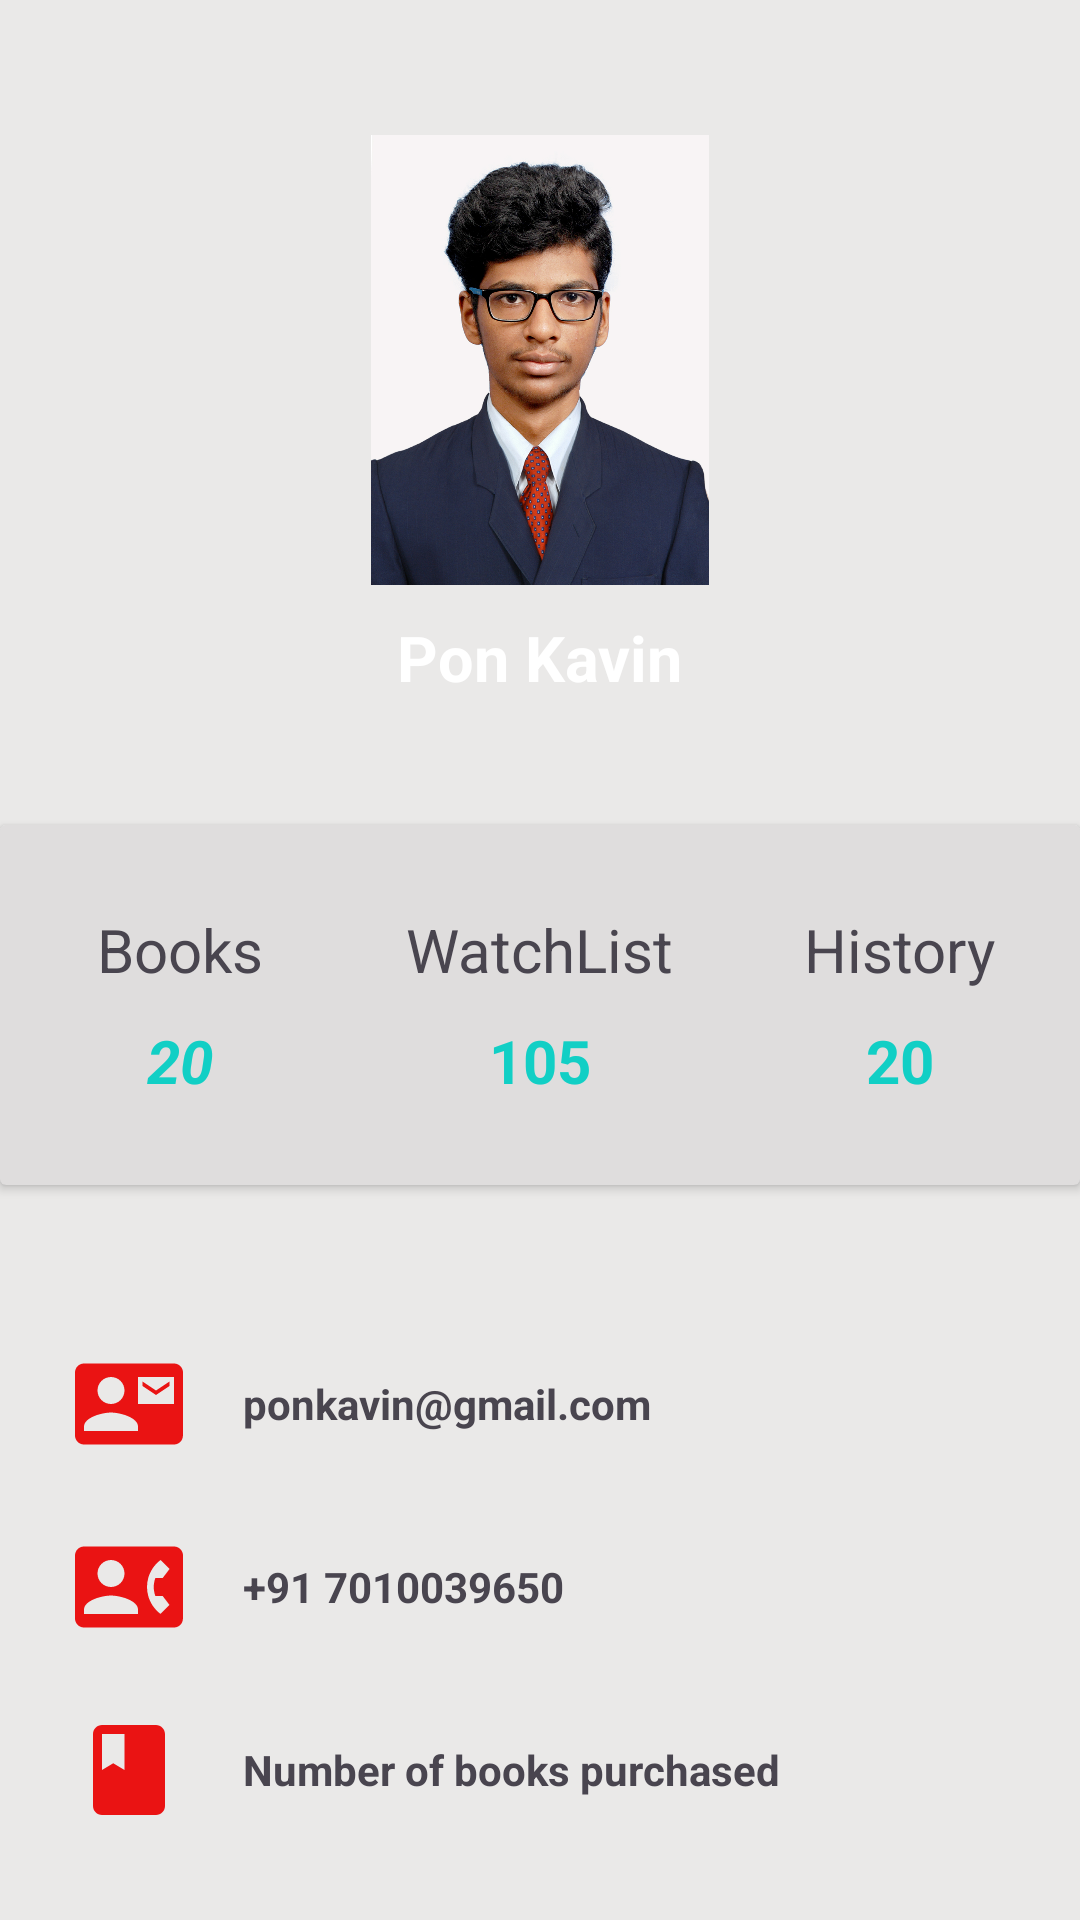

Locate icon controls on the screen. Image size 1080 x 1920, boxes as (x1, y1, x2, y2).
contact mail: (75, 1363, 183, 1445)
contact phone: (75, 1546, 183, 1628)
